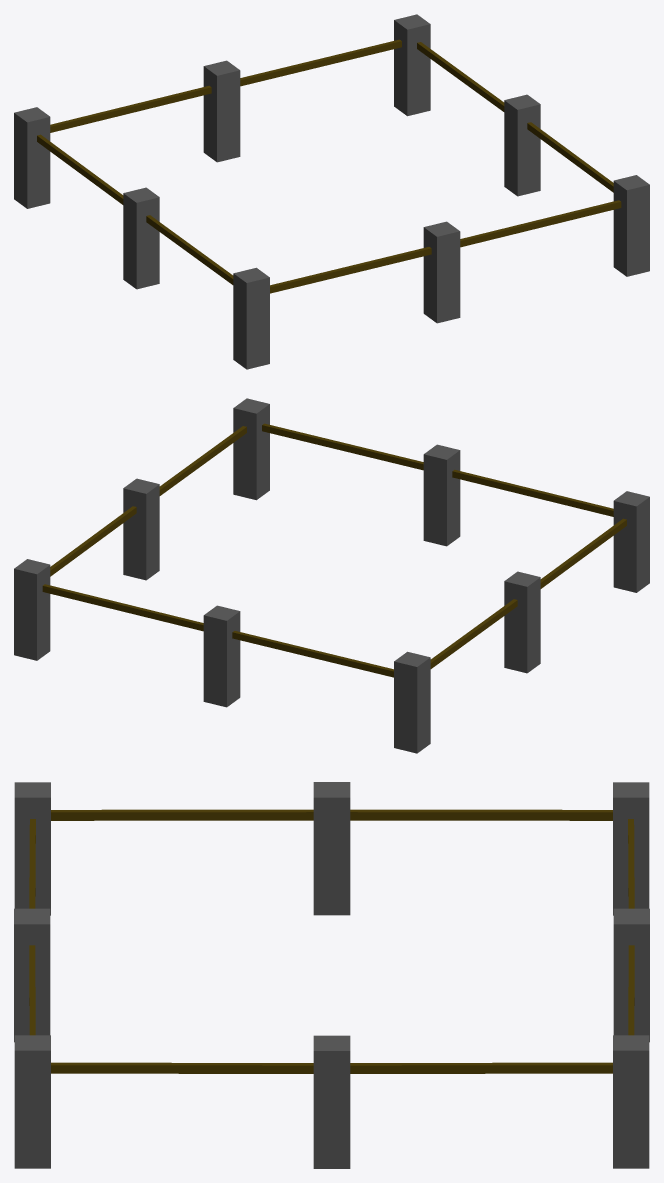
Rendered from Fence.fbx.
3 renders of one model, top to bottom at view 1: azimuth 30°, elevation 25°; view 2: azimuth 150°, elevation 25°; view 3: azimuth 270°, elevation 25°, orthographic. The views are drawn at different scales.
Visible parts, largest first — view 1: Fence; view 2: Fence; view 3: Fence.
Part boxes in pixels (<box>): Fence: <box>14,14,649,369</box>; Fence: <box>14,398,649,753</box>; Fence: <box>14,782,649,1168</box>.
Bounding box in the file's own units: 377 × 77.2 × 377.
